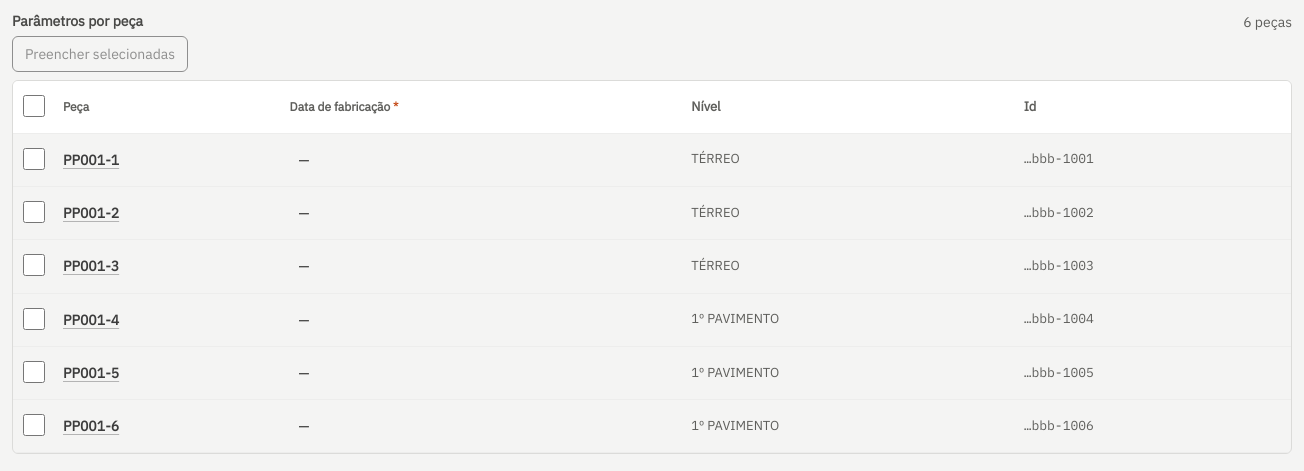
Scenario: Editor de data por peça (docs/bugs/data-por-peca.md) › depois de salvar, reabre e corrige com o row_version que o servidor devolveu
Click the button "—" in the row of "…bbb-1003": x=304, y=266 [290,246,679,286]
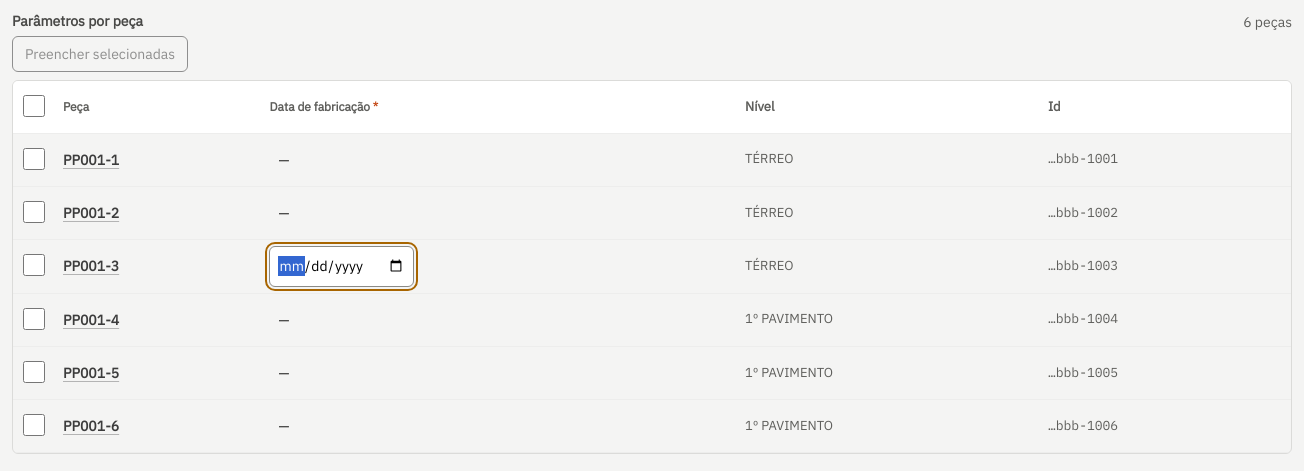
In the date field named "Data de fabricação de PP001-3": x=342, y=266 [270,246,414,287], type "2026-05-05"
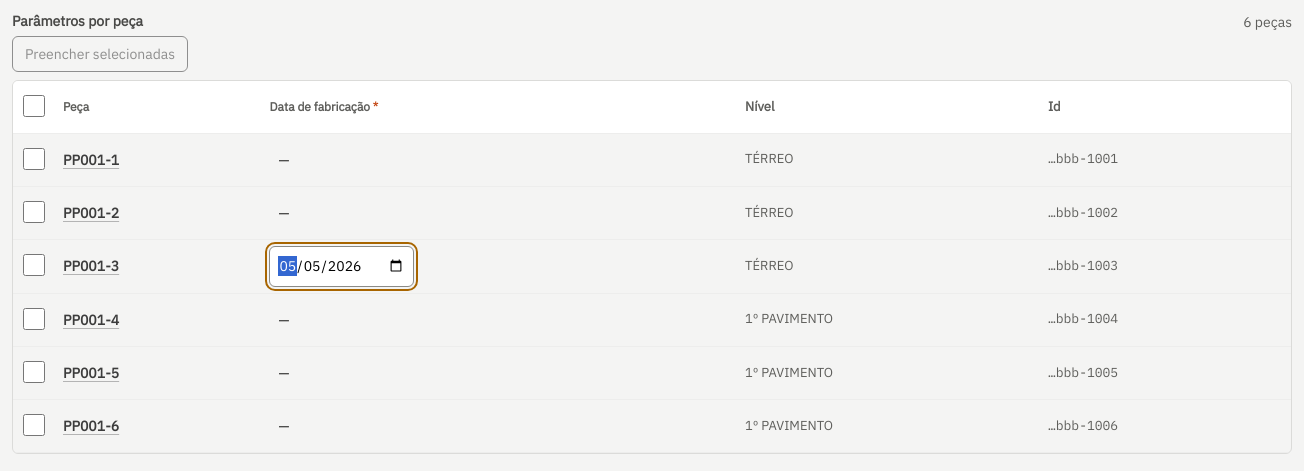
Press Enter
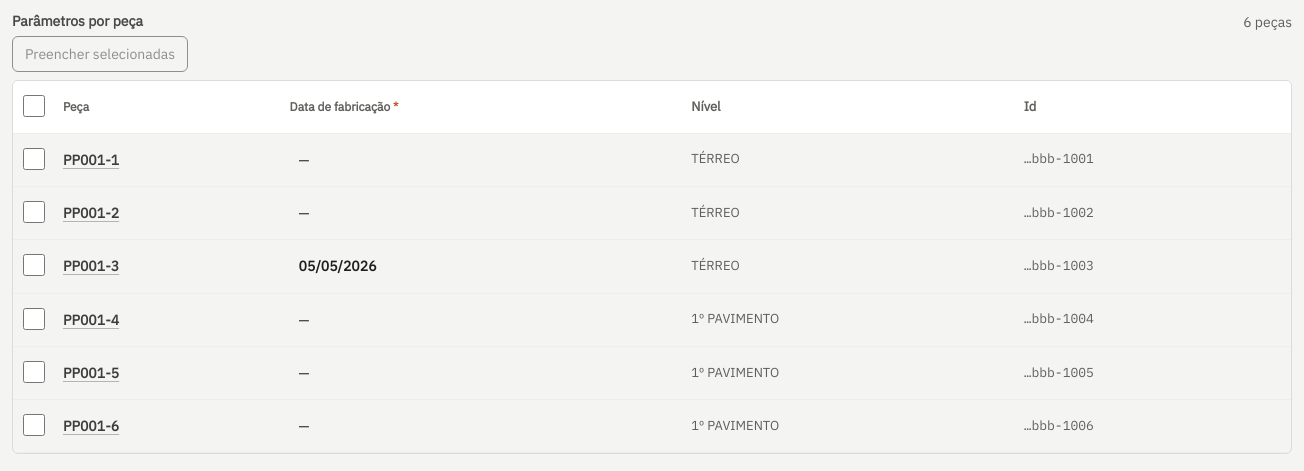
Check: the button named "Data de fabricação de PP001-3: 05/05/2026" is shown
Click the button "05/05/2026": x=338, y=266 [290,246,679,286]
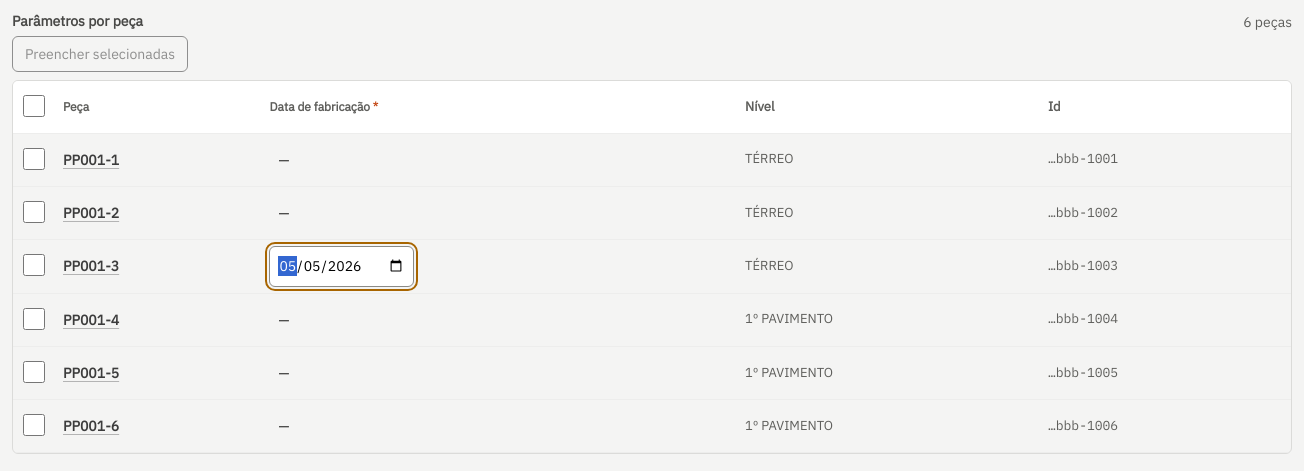
Check: the date field named "Data de fabricação de PP001-3" holds "2026-05-05"
In the date field named "Data de fabricação de PP001-3": x=342, y=266 [270,246,414,287], type "2026-06-06"
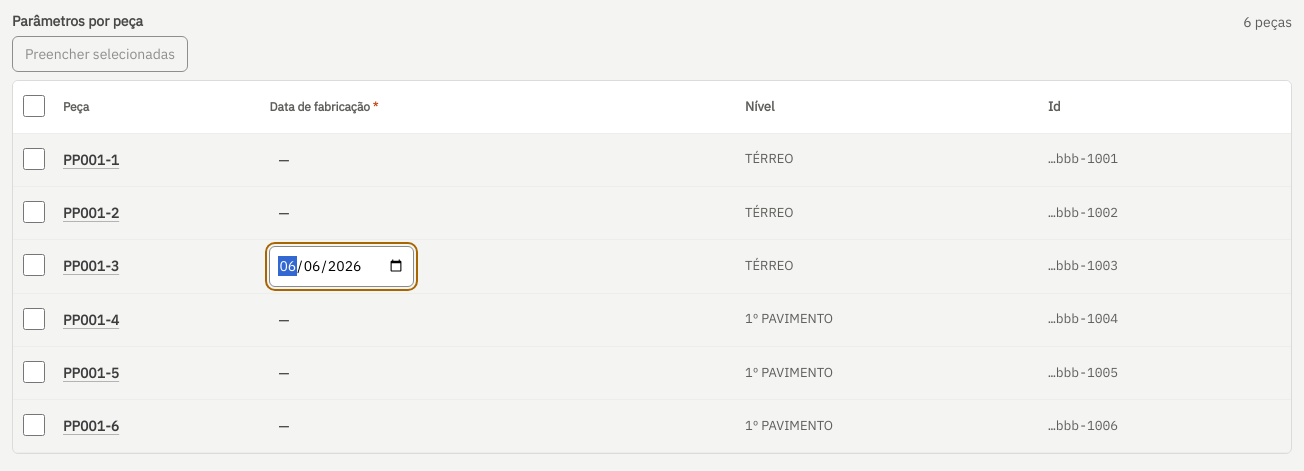
Press Enter
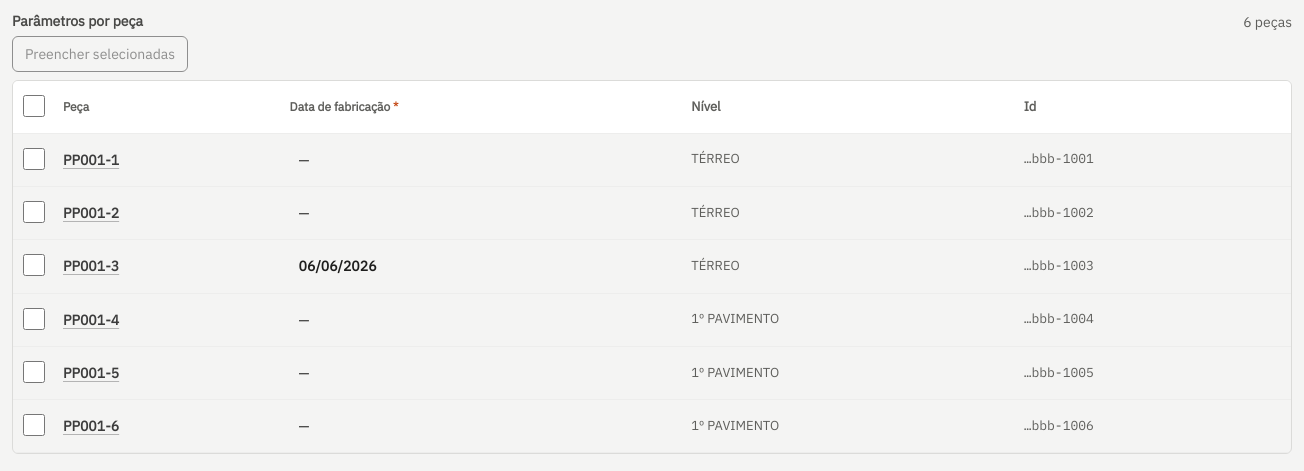
Check: the button named "Data de fabricação de PP001-3: 06/06/2026" is shown, box [290,246,679,286]
